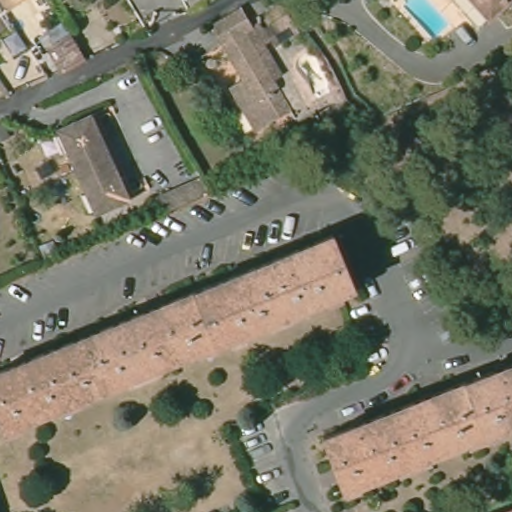pool: (399, 1, 451, 38)
